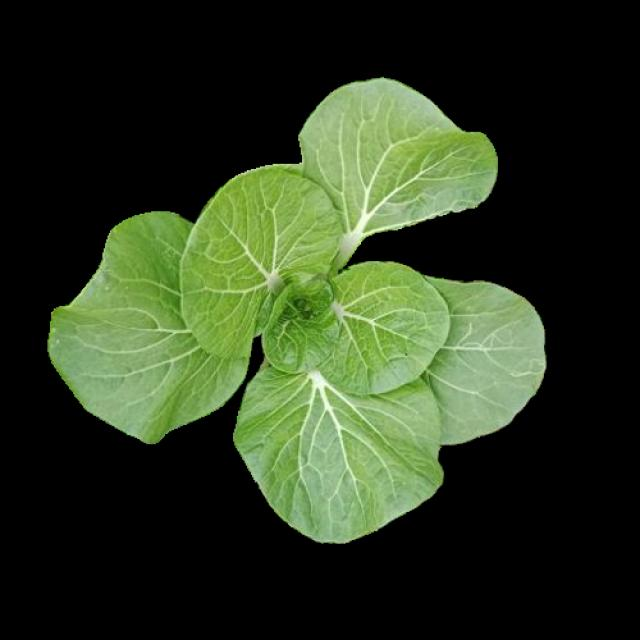mature: (52, 80, 546, 546)
unhealthy: (420, 282, 544, 448)
